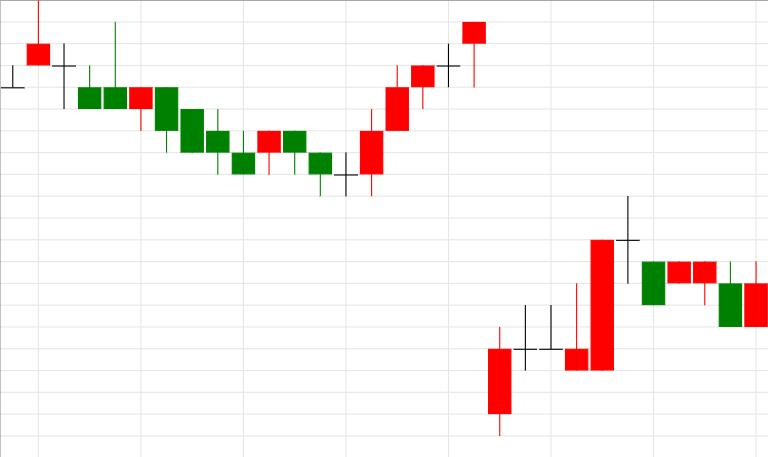evening_star_fall: (488, 196, 664, 434)
hanging_man_fall: (361, 23, 486, 195)
